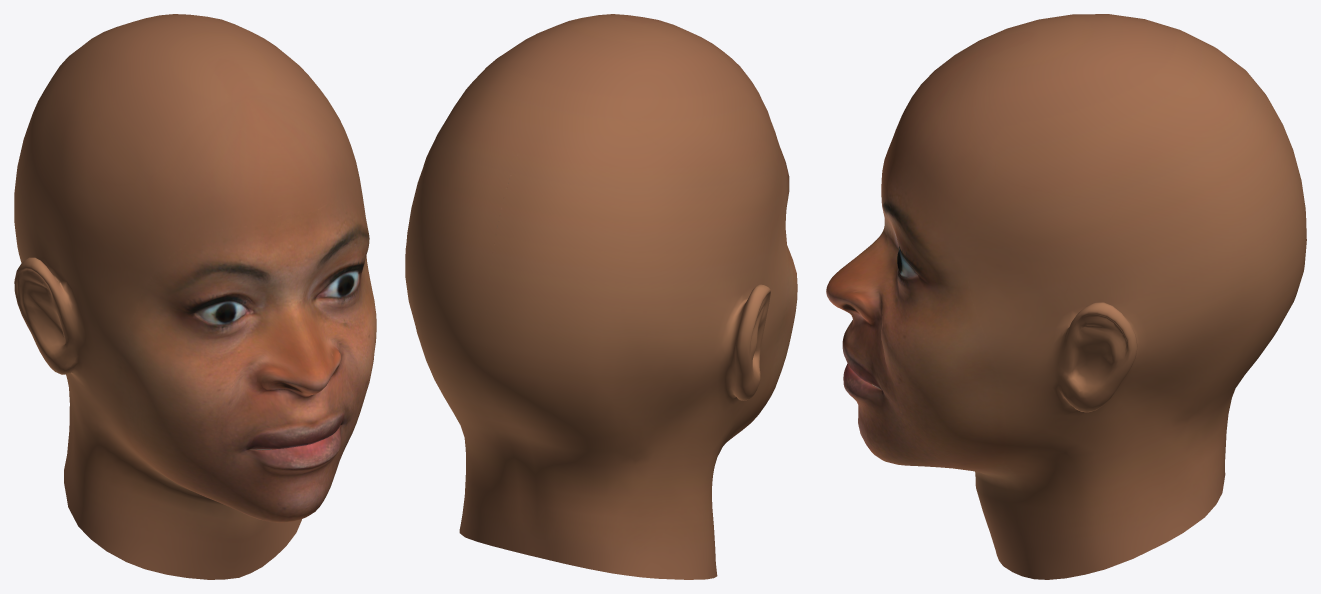
File: v332_obj_ModifierUpperLipRaiser(AU10).obj
3 views of the same model, side by side, from view 1: azimuth 30°, elevation 25°; view 2: azimuth 150°, elevation 25°; view 3: azimuth 270°, elevation 25° (orthographic). The views are drawn at different scales.
Parts seen in each view (by area): view 1: HeadHires; view 2: HeadHires; view 3: HeadHires.
Boxes of the visible parts, x1,y1,x2,y2 form: HeadHires: (14,14,376,579); HeadHires: (405,14,797,579); HeadHires: (826,14,1306,579).
Bounding box in the file's own units: 187 × 282 × 233.
